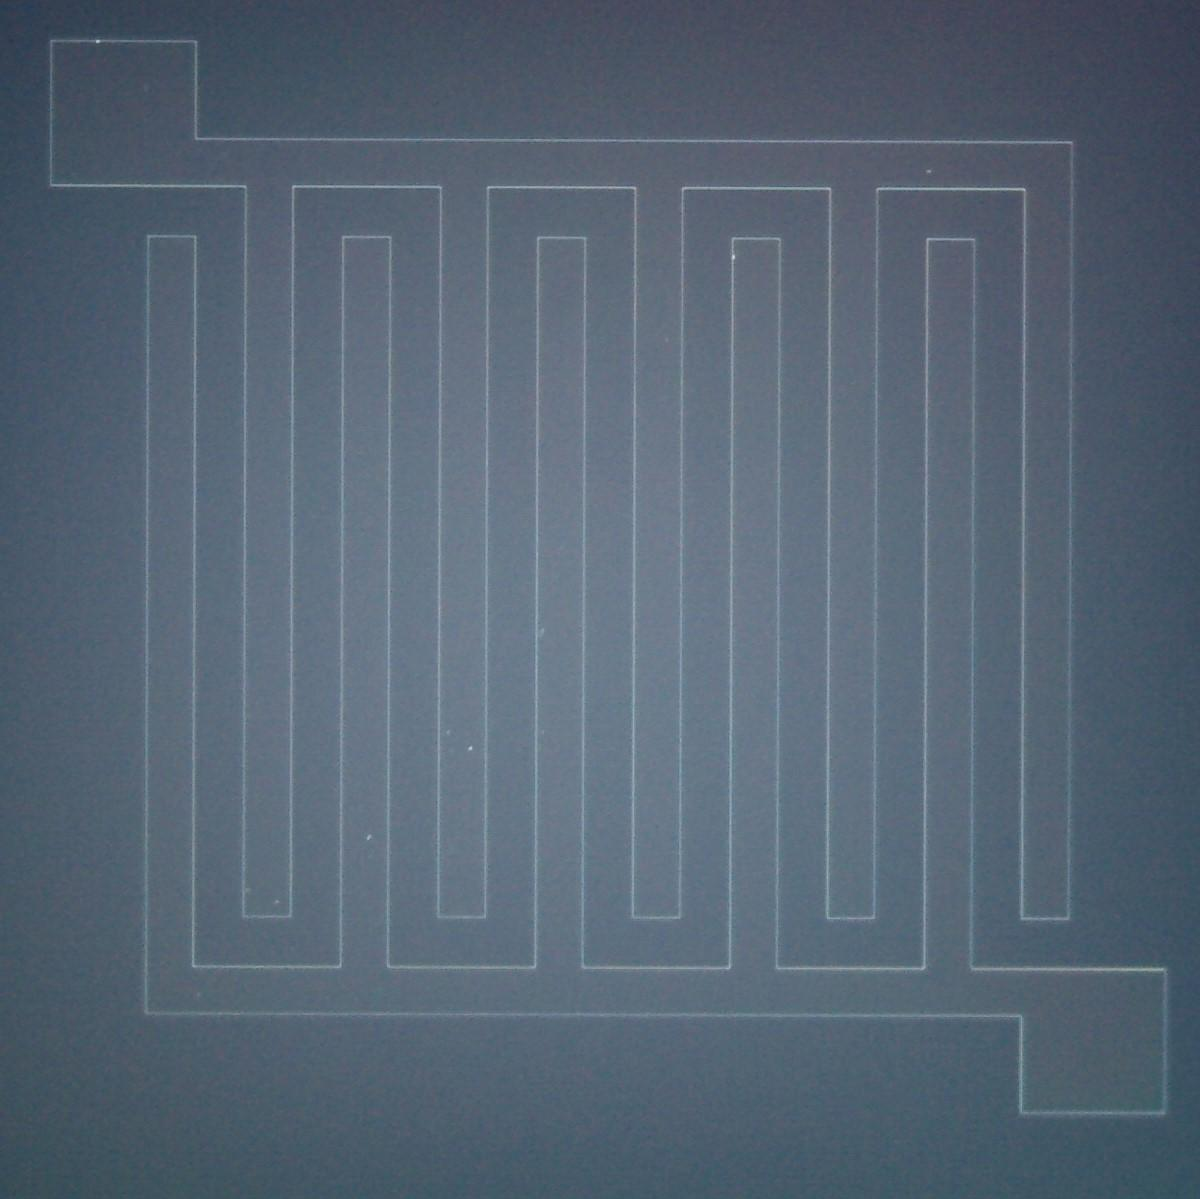B_point: (535, 626, 550, 640)
s_point: (361, 830, 377, 844), (270, 895, 284, 910), (922, 165, 937, 179), (462, 742, 478, 755), (536, 726, 550, 739), (441, 726, 456, 739), (728, 253, 739, 264)
